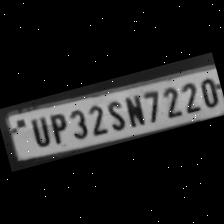0: (193, 74, 223, 111)
2: (155, 82, 184, 122), (175, 78, 202, 116), (83, 100, 109, 137)
3: (64, 104, 90, 141)
7: (138, 87, 164, 125)
N: (120, 90, 146, 129)
P: (42, 110, 70, 146)
S: (102, 96, 128, 134)
U: (22, 114, 52, 150)
